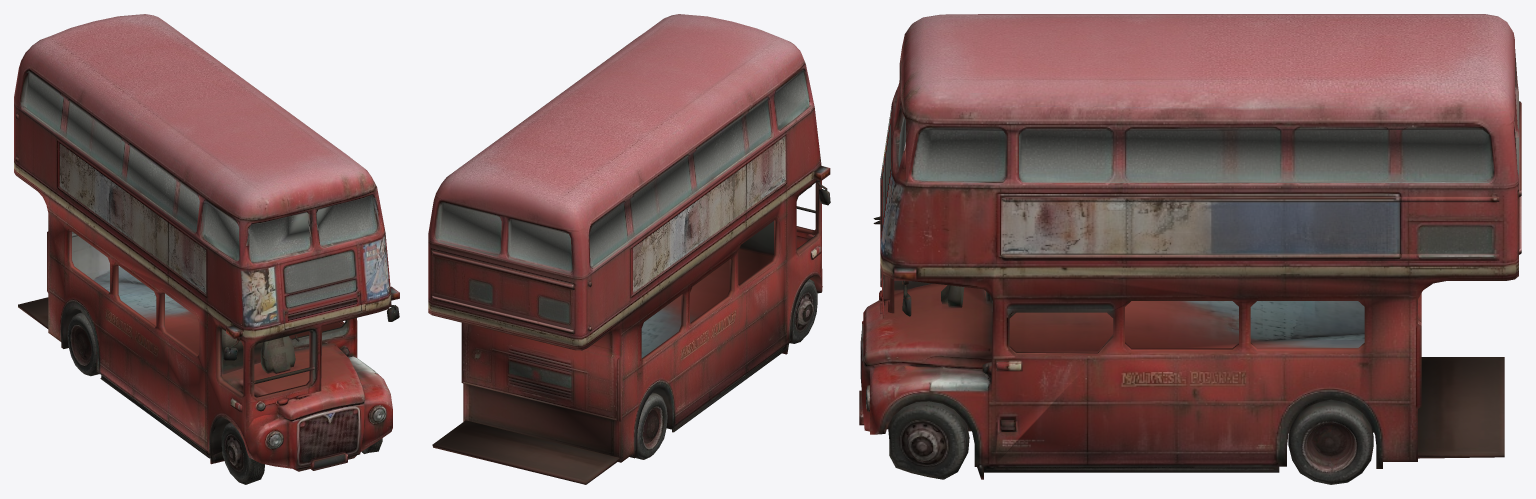
Rendered from rusty+double+decker+bus+3d+model.glb.
3 views of the same model, side by side, from view 1: azimuth 30°, elevation 25°; view 2: azimuth 150°, elevation 25°; view 3: azimuth 270°, elevation 25° (orthographic). The views are drawn at different scales.
Parts seen in each view (by area): view 1: tripo_node_872019ee-114a-412b-8289-2679355ad857; view 2: tripo_node_872019ee-114a-412b-8289-2679355ad857; view 3: tripo_node_872019ee-114a-412b-8289-2679355ad857.
Boxes of the visible parts, left/top/right/bottom form: tripo_node_872019ee-114a-412b-8289-2679355ad857: left=14, top=14, right=399, bottom=484; tripo_node_872019ee-114a-412b-8289-2679355ad857: left=428, top=14, right=830, bottom=484; tripo_node_872019ee-114a-412b-8289-2679355ad857: left=859, top=14, right=1521, bottom=484.
Bounding box in the file's own units: 0.4121 × 0.6582 × 0.998.
1 material, 1 textured.
